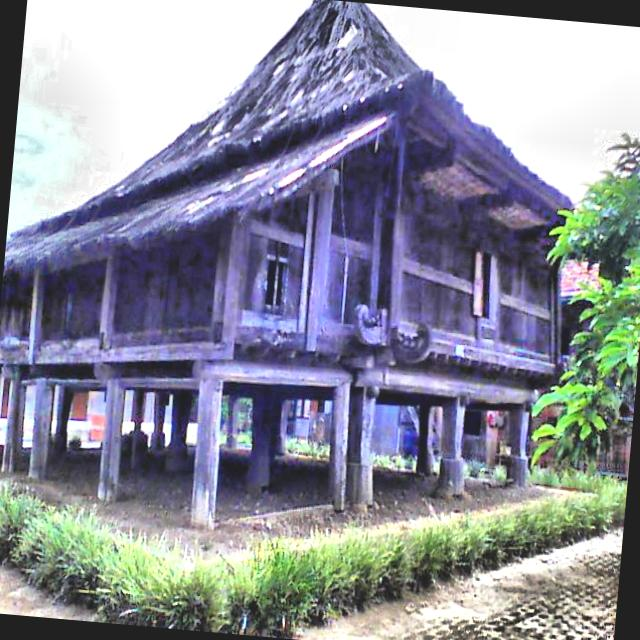column: (190, 378, 222, 530), (346, 387, 376, 506), (97, 387, 125, 501), (438, 397, 465, 494), (29, 382, 55, 480), (329, 385, 349, 510), (1, 383, 26, 473), (505, 403, 530, 486), (51, 386, 76, 454), (167, 394, 188, 456), (127, 391, 148, 449), (416, 406, 434, 473), (150, 392, 170, 448), (225, 395, 239, 448)
ornamen: (353, 305, 431, 362)
roof: (4, 0, 579, 264)
wall: (0, 167, 556, 386)
window: (471, 250, 498, 327), (262, 254, 287, 308)
